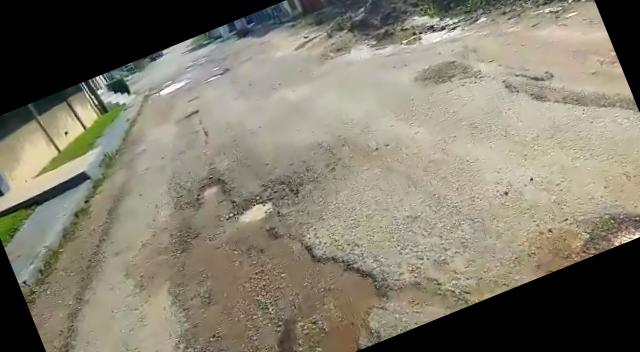pothole: (228, 178, 298, 234)
